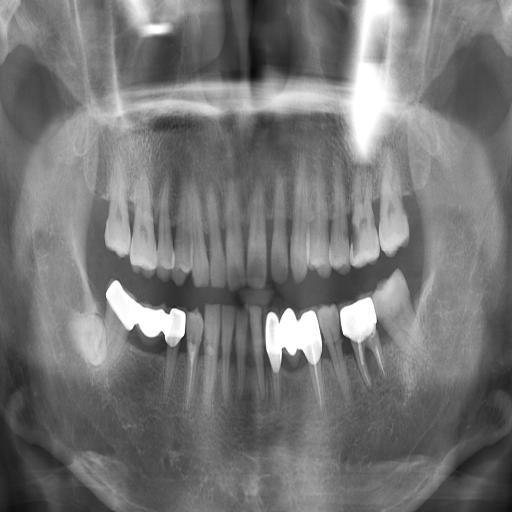Wisdom teeth: (373, 270, 413, 344), (70, 312, 106, 365)
